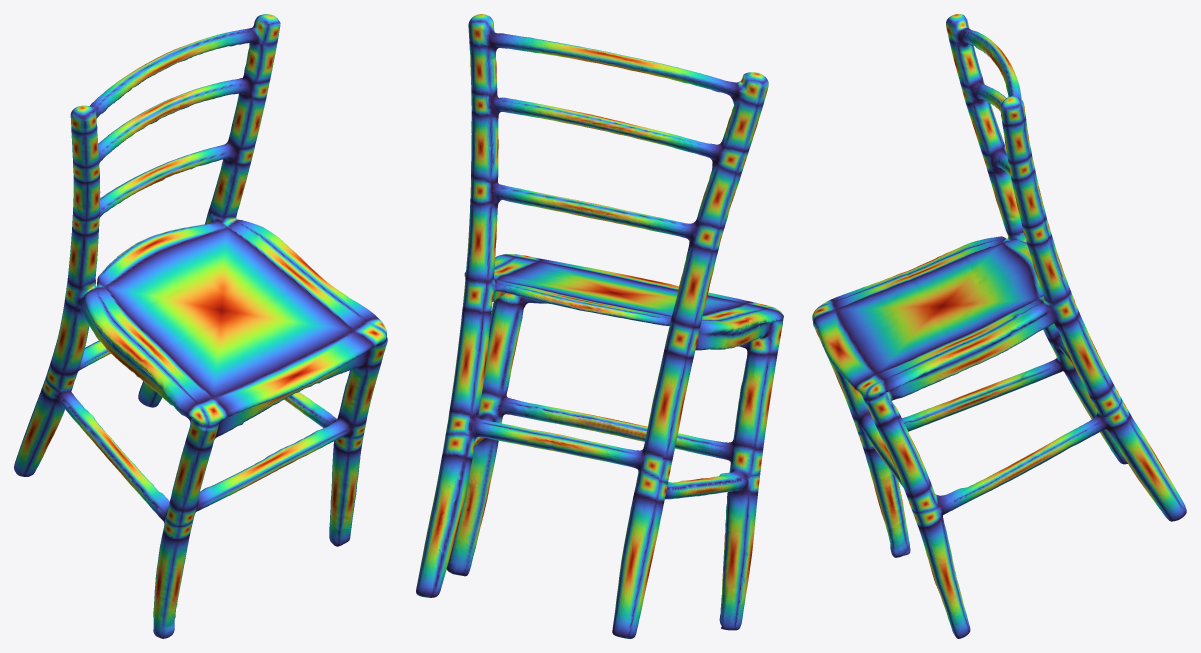
Rendered from gen1.glb.
3 views of the same model, side by side, from view 1: azimuth 30°, elevation 25°; view 2: azimuth 150°, elevation 25°; view 3: azimuth 270°, elevation 25° (orthographic). The views are drawn at different scales.
Parts seen in each view (by area): view 1: Node; view 2: Node; view 3: Node.
Part boxes in pixels (x1,y1,x2,y2): Node: (14, 14, 387, 638); Node: (416, 14, 783, 638); Node: (812, 14, 1186, 638).
Size of the model in its own units: 311 by 576 by 365.
Materials: 1 (1 with a texture image).
